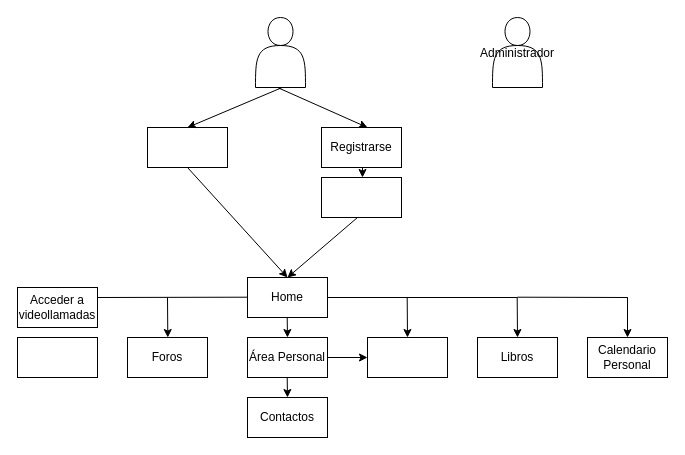
This 685x455 diagram has some shape labels left out. The centre of each missing label's shape, as x and y in pixels:
"Crear videollamadas" goes at [57,357].
"Entrar como invitado" goes at [187,147].
"Iniciar Sesión" goes at [361,197].
"Usuario" goes at [280,52].
"Videojuegos" goes at [407,357].
